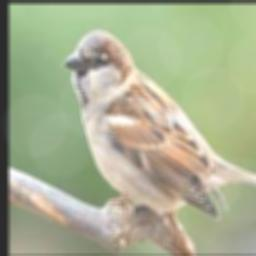Sparrow: (63, 30, 256, 220)
